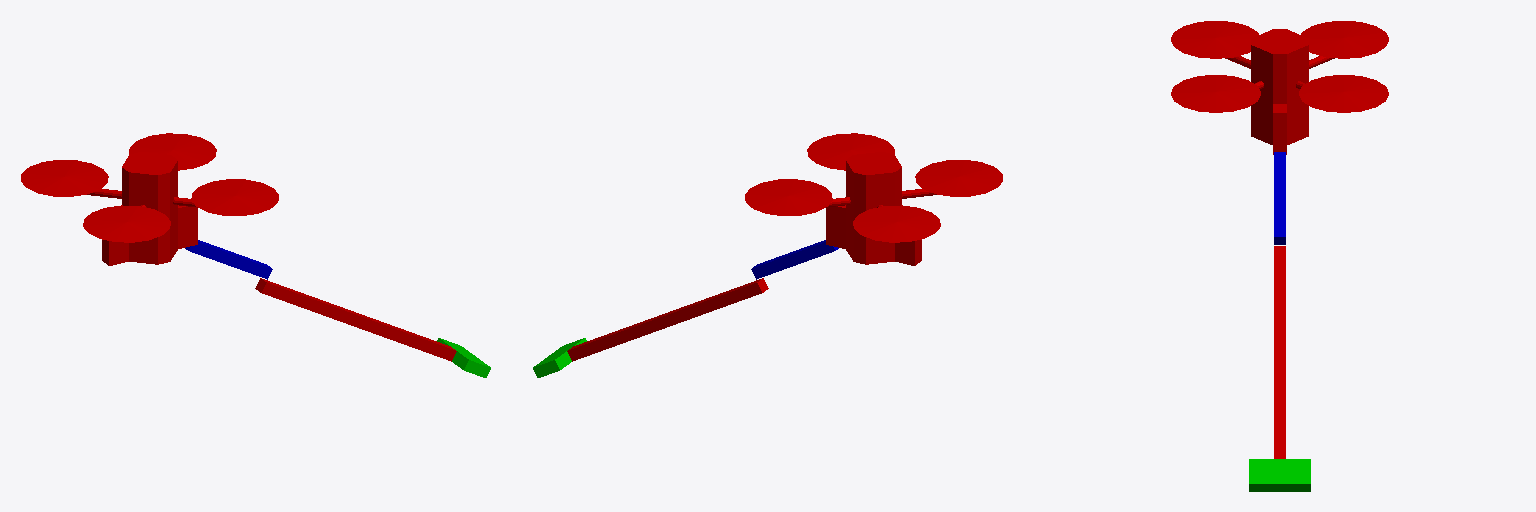
robot.urdf — Airbotwith2dofarm:
<?xml version="1.0" ?>
<!-- =================================================================================== -->
<!-- |    This document was autogenerated by xacro from airbot5.xacro                  | -->
<!-- |    EDITING THIS FILE BY HAND IS NOT RECOMMENDED                                 | -->
<!-- =================================================================================== -->
<robot name="Airbotwith2dofarm" xmlns:xacro="http://www.ros.org/wiki/xacro">
  <!-- Constants -->
  <!--xacro:property name="pi" value="3.1415926535897931" /-->
  <!-- Arm base wrt Quad -->
  <!-- Arm Lengths -->
  <!--Structural Properties-->
  <link name="baselink"/>
  <link name="airbase">
    <visual>
      <origin rpy="0 0 0" xyz="0.0 0.0 0.0"/>
      <geometry>
        <mesh filename="model://airbot/meshes/quadrotor_base.dae"/>
        <!--box size="0.44 0.44 0.1632"/-->
      </geometry>
      <material name="red">
        <color rgba="0.8 0 0 1"/>
      </material>
    </visual>
    <inertial>
      <mass value="1.4"/>
      <inertia ixx="0.0256939946667" ixy="0.0" ixz="0.0" iyy="0.0256939946667" iyz="0.0" izz="0.0451733333333"/>
      <!--mass value="${m0}"/>
      <inertia ixx="${m0*4.32e-3}" ixy="0.0" ixz="0.0" iyy="${m0*4.32e-3}" iyz="0.0" izz="${m0*8.41e-3}"/-->
    </inertial>
  </link>
  <link name="link1">
    <visual>
      <origin rpy="0 0 0" xyz="0.0 0.0 0.0875"/>
      <material name="blue">
        <color rgba="0 0 0.8 1"/>
      </material>
      <geometry>
        <box size="0.02 0.02 0.175"/>
      </geometry>
    </visual>
    <inertial>
      <origin rpy="0 0 0" xyz="0.0 0.0 0.0"/>
      <!-- Since motors are heavy they constitute most weight-->
      <mass value="0.1"/>
      <inertia ixx="4.16666666667e-05" ixy="0.0" ixz="0.0" iyy="4.16666666667e-05" iyz="0.0" izz="4.16666666667e-05"/>
    </inertial>
  </link>
  <link name="link2">
    <visual>
      <origin rpy="0 0 0" xyz="0.0 0.0 0.21"/>
      <geometry>
        <box size="0.02 0.02 0.42"/>
      </geometry>
      <material name="red">
        <color rgba="0.8 0 0 1"/>
      </material>
    </visual>
    <inertial>
      <origin rpy="0 0 0" xyz="0.0 0.0 0.0"/>
      <mass value="0.1"/>
      <inertia ixx="4.16666666667e-05" ixy="0.0" ixz="0.0" iyy="4.16666666667e-05" iyz="0.0" izz="4.16666666667e-05"/>
    </inertial>
  </link>
  <link name="link3">
    <visual>
      <origin rpy="0 0 0" xyz="0.0 0.0 0.025"/>
      <geometry>
        <box size="0.02 0.1 0.05"/>
      </geometry>
      <material name="green">
        <color rgba="0 0.8 0 1"/>
      </material>
    </visual>
    <inertial>
      <origin rpy="0 0 0" xyz="0.0 0.0 0.025"/>
      <mass value="0.03"/>
      <inertia ixx="7.25e-06" ixy="0.0" ixz="0.0" iyy="7.25e-06" iyz="0.0" izz="2e-06"/>
    </inertial>
  </link>
  <!-- Joints -->
  <joint name="basetoairbase" type="fixed">
    <parent link="baselink"/>
    <child link="airbase"/>
    <origin rpy="0 0 0" xyz="0 0 0"/>
  </joint>
  <joint name="airbasetolink1" type="revolute">
    <parent link="airbase"/>
    <child link="link1"/>
    <origin rpy="0 0 0" xyz="0.0732 0 -0.1"/>
    <axis xyz="0 1 0"/>
    <!--limit effort="30" velocity="10.0" lower="-${360*degtorad}" upper="${360*degtorad}"/-->
    <limit effort="30" lower="1.30899693825" upper="2.87979326415" velocity="10.0"/>
  </joint>
  <joint name="link1tolink2" type="revolute">
    <parent link="link1"/>
    <child link="link2"/>
    <origin rpy="0 0 0" xyz="0.025 0 0.175"/>
    <axis xyz="0 1 0"/>
    <!--limit effort="30" velocity="10.0" lower="-${360*degtorad}" upper="${360*degtorad}"/-->
    <limit effort="30" lower="-1.5707963259" upper="3.1415926518" velocity="10.0"/>
  </joint>
  <joint name="link2tolink3" type="fixed">
    <parent link="link2"/>
    <child link="link3"/>
    <origin rpy="0 0 0" xyz="0 0 0.42"/>
  </joint>
</robot>

--- Facts derived from the render (not from the file) ---
The picture shows the robot from 3 angles, left to right: view 1: azimuth 30°, elevation 25°; view 2: azimuth 150°, elevation 25°; view 3: azimuth 270°, elevation 25°; orthographic projection.
Robot: Airbotwith2dofarm — 5 links, 4 joints (2 revolute, 2 fixed); root link baselink; default pose: all joints at 0 but 1 set to mid-range because 0 is outside their limits (airbasetolink1 = 2.09).
Visible links, largest first — view 1: airbase, link2, link1, link3; view 2: airbase, link2, link1, link3; view 3: airbase, link2, link3, link1.
Boxes of the visible links, x1,y1,x2,y2 form: airbase: (21, 133, 278, 265); link2: (255, 278, 456, 361); link1: (185, 240, 272, 279); link3: (437, 338, 490, 377); airbase: (745, 133, 1002, 265); link2: (567, 278, 768, 361); link1: (751, 240, 838, 279); link3: (533, 338, 586, 377); airbase: (1171, 21, 1388, 154); link2: (1274, 246, 1285, 458); link3: (1249, 459, 1310, 491); link1: (1274, 152, 1285, 244).
Bounding box of the posed robot: 0.8014 × 0.3543 × 0.516 m (x, y, z).
Meshes: 1 distinct files referenced, 1 mesh visuals loaded (1 Collada DAE).
